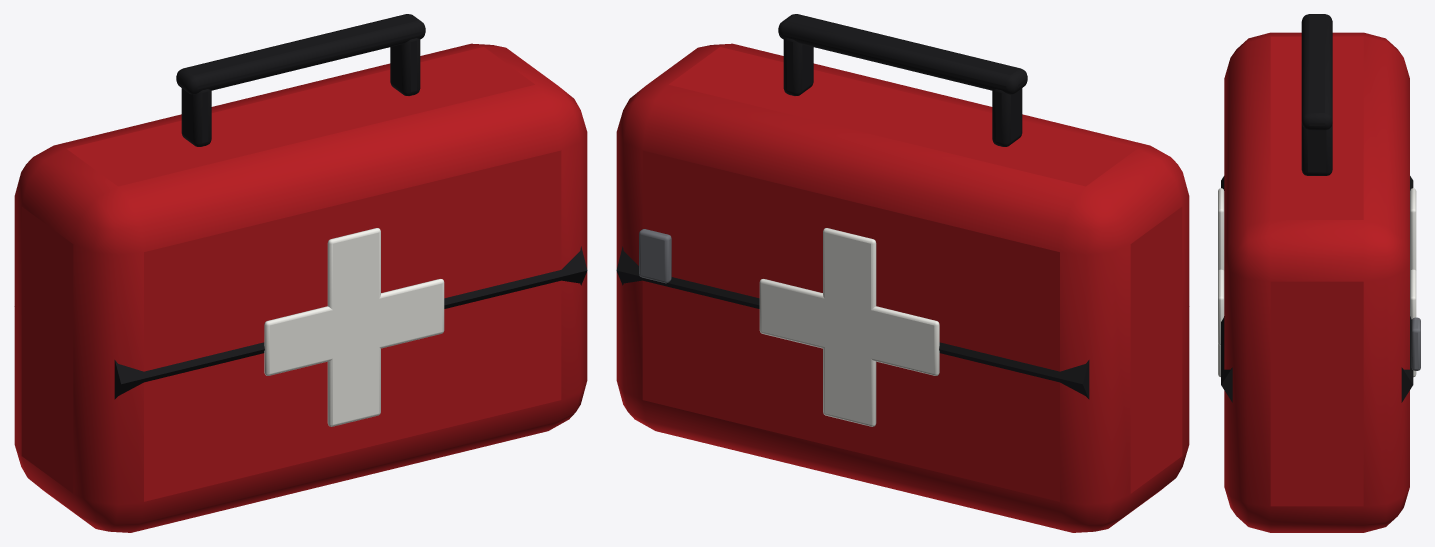
The model's file is botiquin.glb.
3 renders of one model, left to right at view 1: azimuth 30°, elevation 25°; view 2: azimuth 150°, elevation 25°; view 3: azimuth 270°, elevation 25°, orthographic. The views are drawn at different scales.
Visible parts, largest first — view 1: Cube; view 2: Cube; view 3: Cube.
Boxes of the visible parts, x1,y1,x2,y2 form: Cube: (14,14,587,532); Cube: (616,14,1189,532); Cube: (1218,14,1420,532).
Size of the model in its own units: 0.34 by 0.266 by 0.131.
